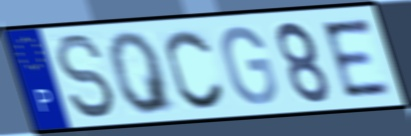8: (275, 18, 331, 105)
C: (163, 26, 228, 112)
E: (317, 15, 396, 101)
G: (219, 24, 280, 108)
Q: (105, 29, 180, 117)
S: (51, 31, 120, 122)
